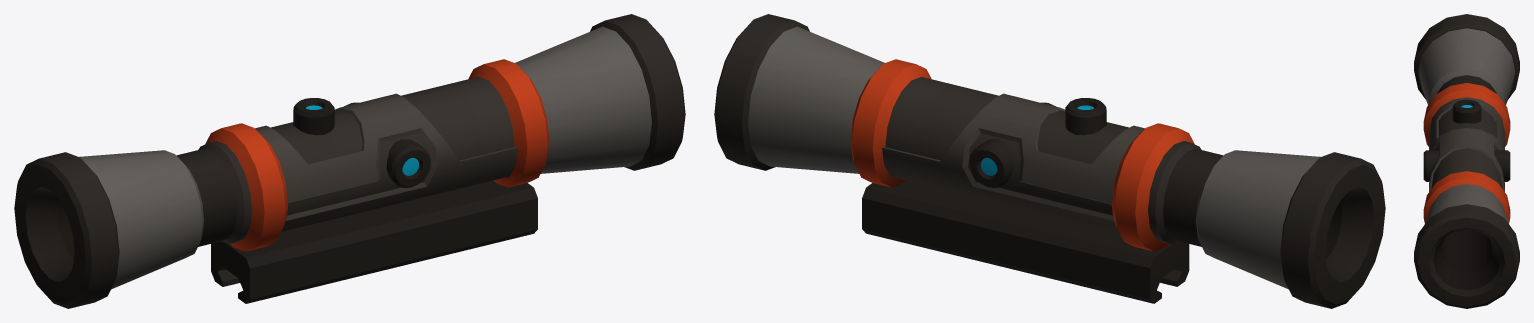
The model's file is Sight_10.fbx.
3 renders of one model, left to right at view 1: azimuth 30°, elevation 25°; view 2: azimuth 150°, elevation 25°; view 3: azimuth 270°, elevation 25°, orthographic. The views are drawn at different scales.
Visible parts, largest first — view 1: Sight_10; view 2: Sight_10; view 3: Sight_10.
Part boxes in pixels (x1,y1,x2,y2): Sight_10: (14,14,685,308); Sight_10: (714,14,1385,308); Sight_10: (1414,14,1519,308).
Bounding box in the file's own units: 34.85 × 9.54 × 7.74.
